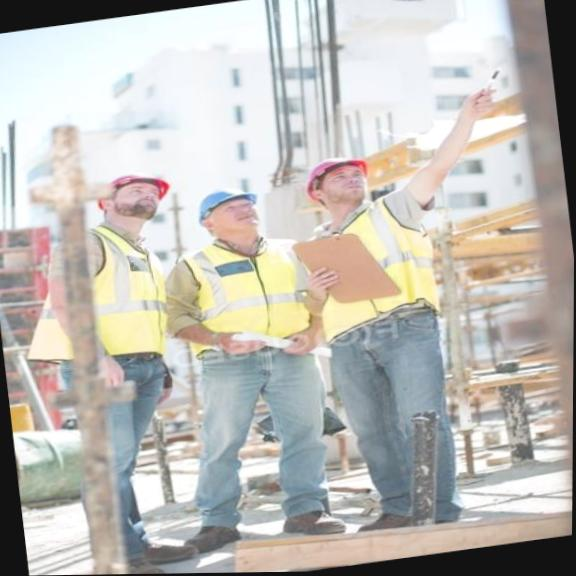safety_vest: (44, 221, 188, 371), (299, 200, 431, 340), (184, 234, 312, 362)
